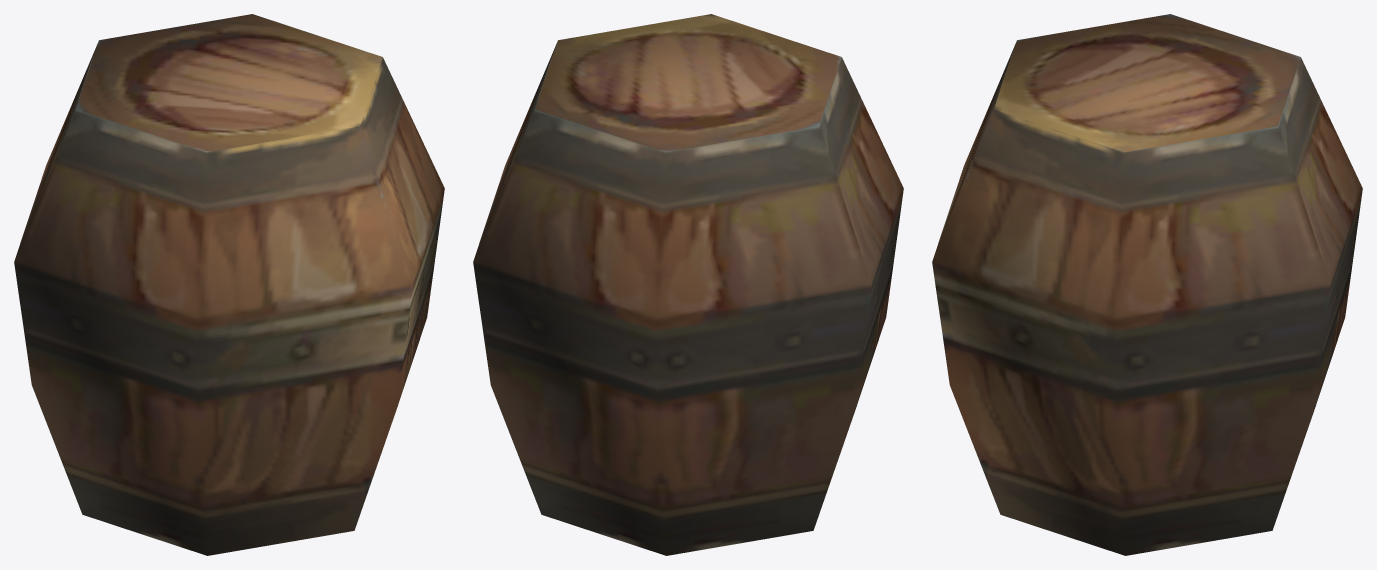
File: Map_06_bucket01.FBX
The picture shows the model from 3 angles, left to right: view 1: azimuth 30°, elevation 25°; view 2: azimuth 150°, elevation 25°; view 3: azimuth 270°, elevation 25°; orthographic projection.
Parts seen in each view (by area): view 1: Map_06_bucket01; view 2: Map_06_bucket01; view 3: Map_06_bucket01.
Part boxes in pixels (x1,y1,x2,y2): Map_06_bucket01: (14,14,444,555); Map_06_bucket01: (473,14,903,555); Map_06_bucket01: (932,14,1362,555).
Size of the model in its own units: 127 by 119 by 124.
